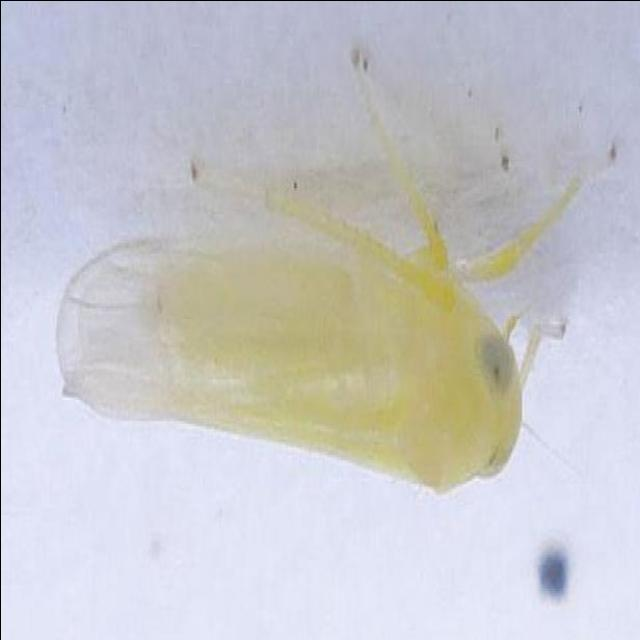green leaf hopper: (56, 181, 522, 490)
